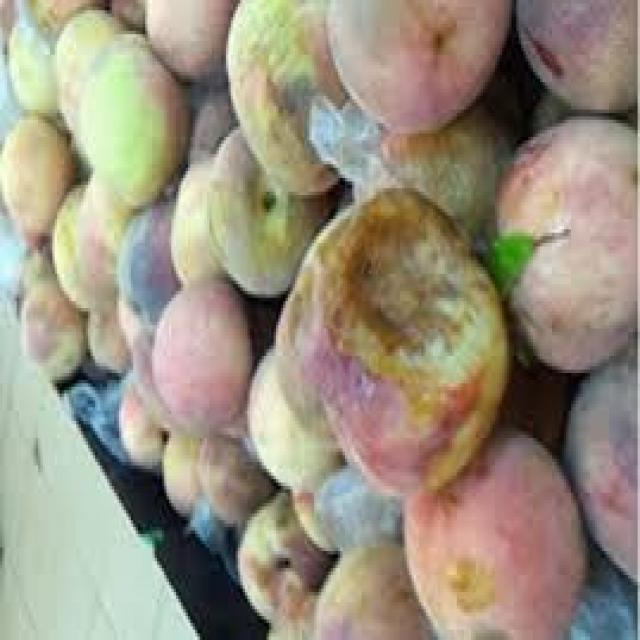organic waste: (278, 175, 512, 490), (402, 418, 583, 636), (494, 106, 638, 370), (221, 0, 364, 188), (343, 106, 516, 250), (207, 120, 345, 298), (319, 0, 516, 120), (74, 27, 185, 202), (564, 360, 638, 578), (248, 342, 348, 497), (512, 0, 638, 113), (154, 284, 250, 428), (231, 486, 333, 616), (312, 544, 438, 637), (309, 466, 414, 554), (143, 0, 240, 89), (50, 182, 119, 302), (0, 116, 69, 233), (173, 161, 236, 284), (57, 7, 126, 106), (17, 270, 81, 373), (119, 383, 190, 472), (119, 209, 178, 315), (202, 432, 276, 514), (571, 548, 638, 636), (7, 17, 57, 110), (81, 304, 136, 376), (474, 226, 566, 267), (164, 434, 202, 516), (186, 82, 228, 151), (21, 0, 105, 31), (262, 612, 362, 636), (107, 0, 145, 27)
